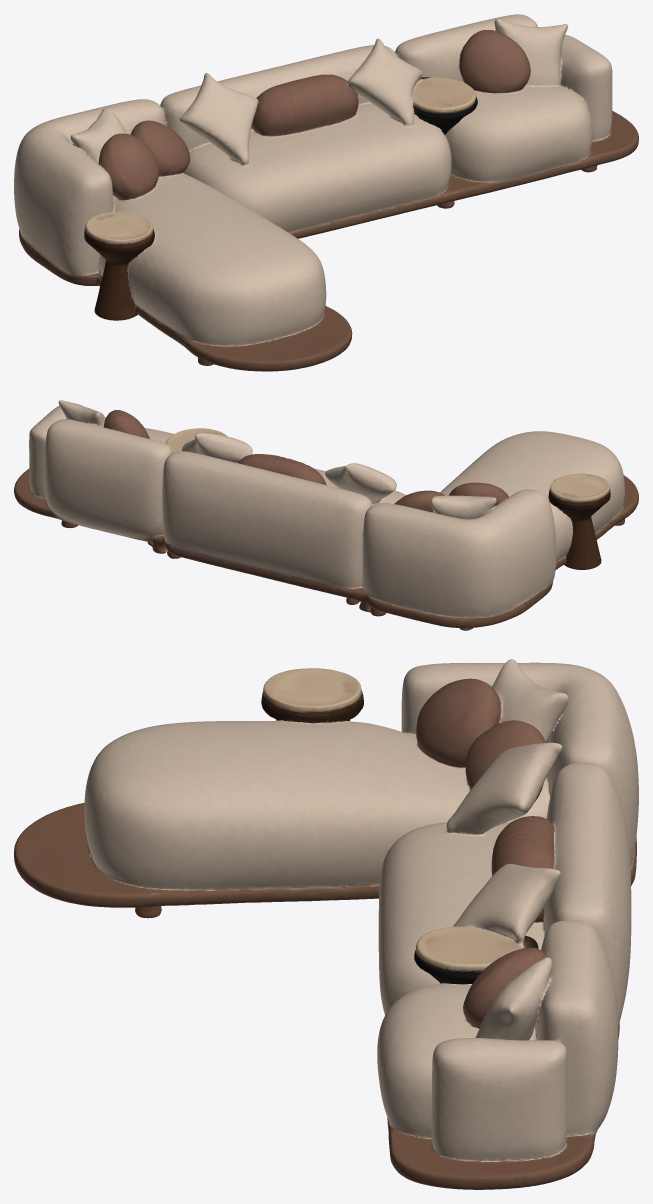
File: 8XI1Z6GhFEh1qHaFGSqii.glb
3 views of the same model, one above another, from view 1: azimuth 30°, elevation 25°; view 2: azimuth 150°, elevation 25°; view 3: azimuth 270°, elevation 25° (orthographic). The views are drawn at different scales.
Visible parts, largest first — view 1: world; view 2: world; view 3: world.
Part boxes in pixels (box(x1,y1,x2,y2)): world: box(14, 14, 638, 371); world: box(14, 400, 638, 630); world: box(14, 659, 638, 1189).
Bounding box in the file's own units: 1 × 0.2265 × 0.6524.
1 material, 1 textured.
